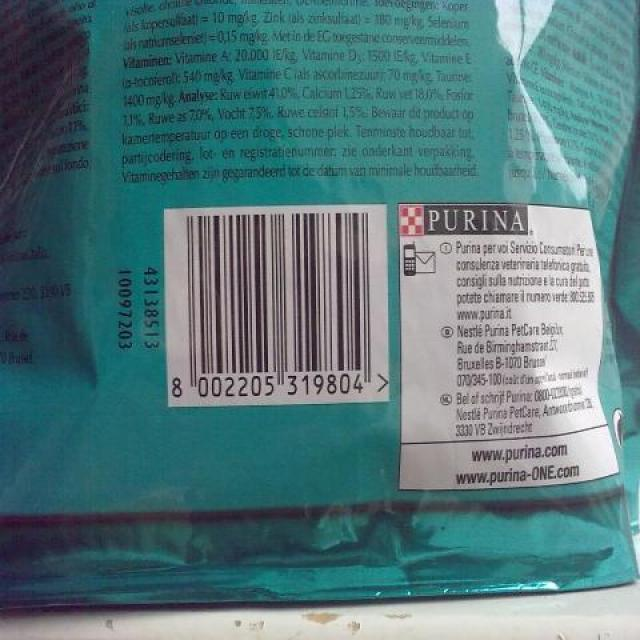Barcode: (164, 203, 391, 404)
